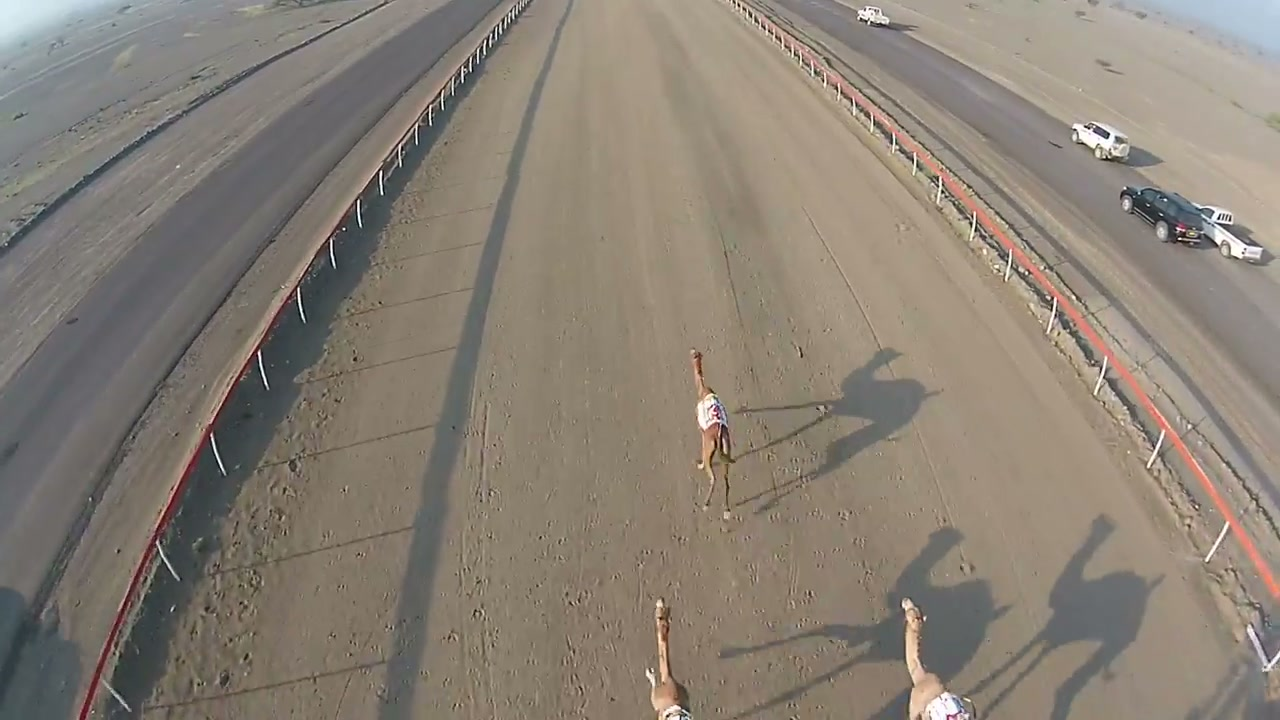animal_footprint: (722, 500, 829, 719)
